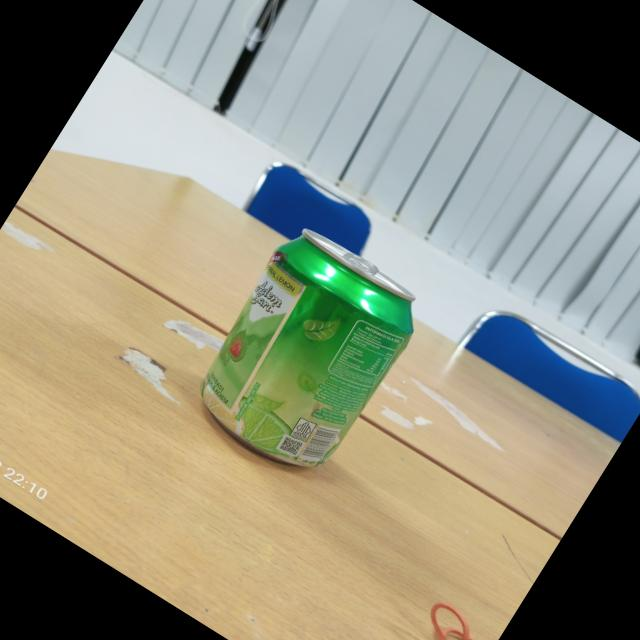ademsarikaleng: (176, 214, 434, 491)
